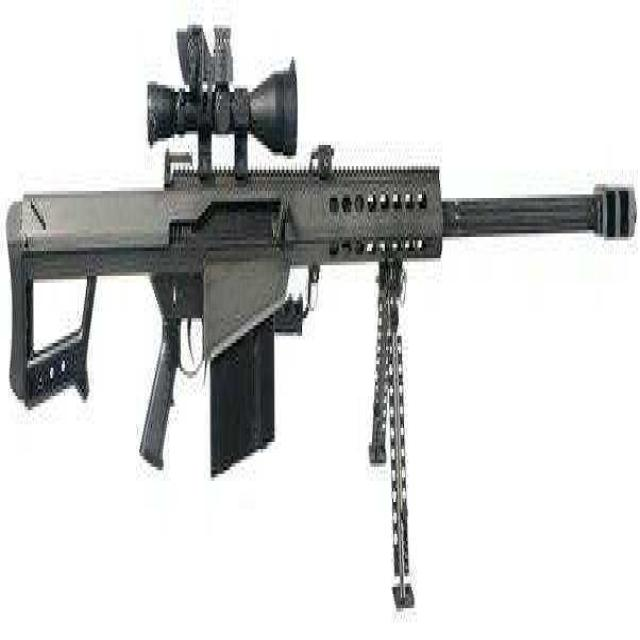heavyweapon: (1, 72, 636, 489)
